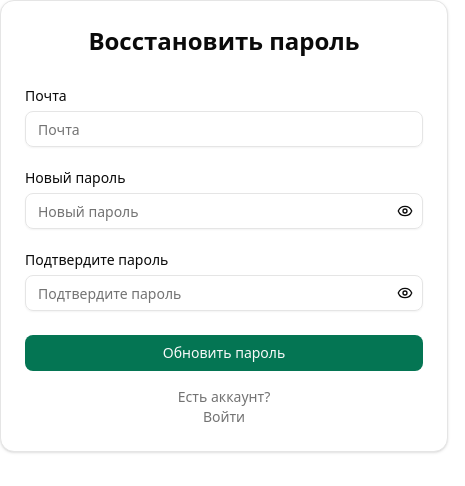
RestoreForm › should show non-existing email error if email is not found
Type "test@test.com" into the field at [224, 129], box [25,111,423,147]
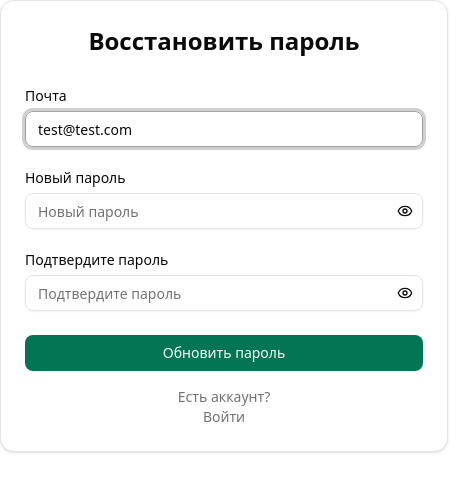
Type "Test12345678" into the password field with placeholder "Новый пароль" at [224, 211], box [25,193,423,229]
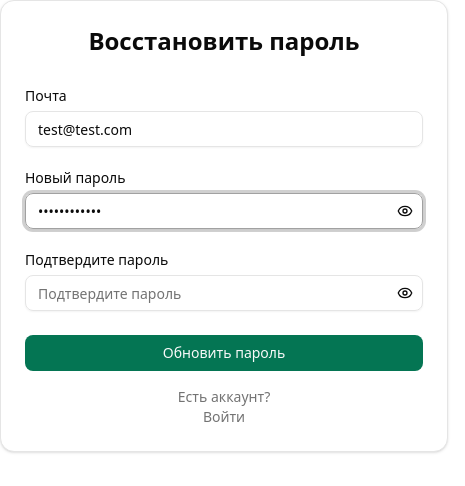
Type "Test12345678" into the password field with placeholder "Подтвердите пароль" at [224, 293], box [25,275,423,311]
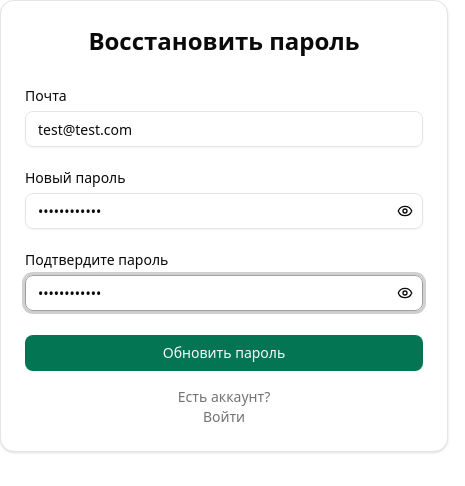
Click the button "Обновить пароль" at [224, 353], box [25,335,423,371]
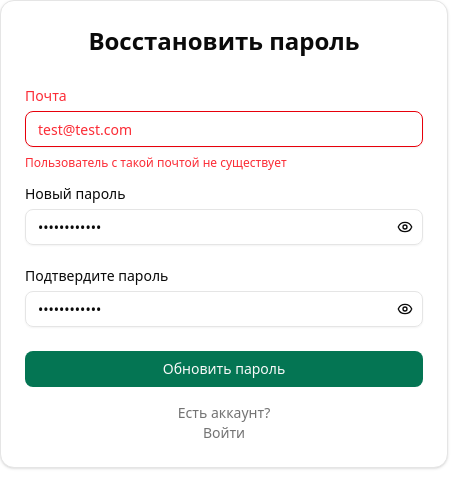
Expected: the text with test id "email_error" reads "Пользователь с такой почтой не существует", [25,154,287,171]
